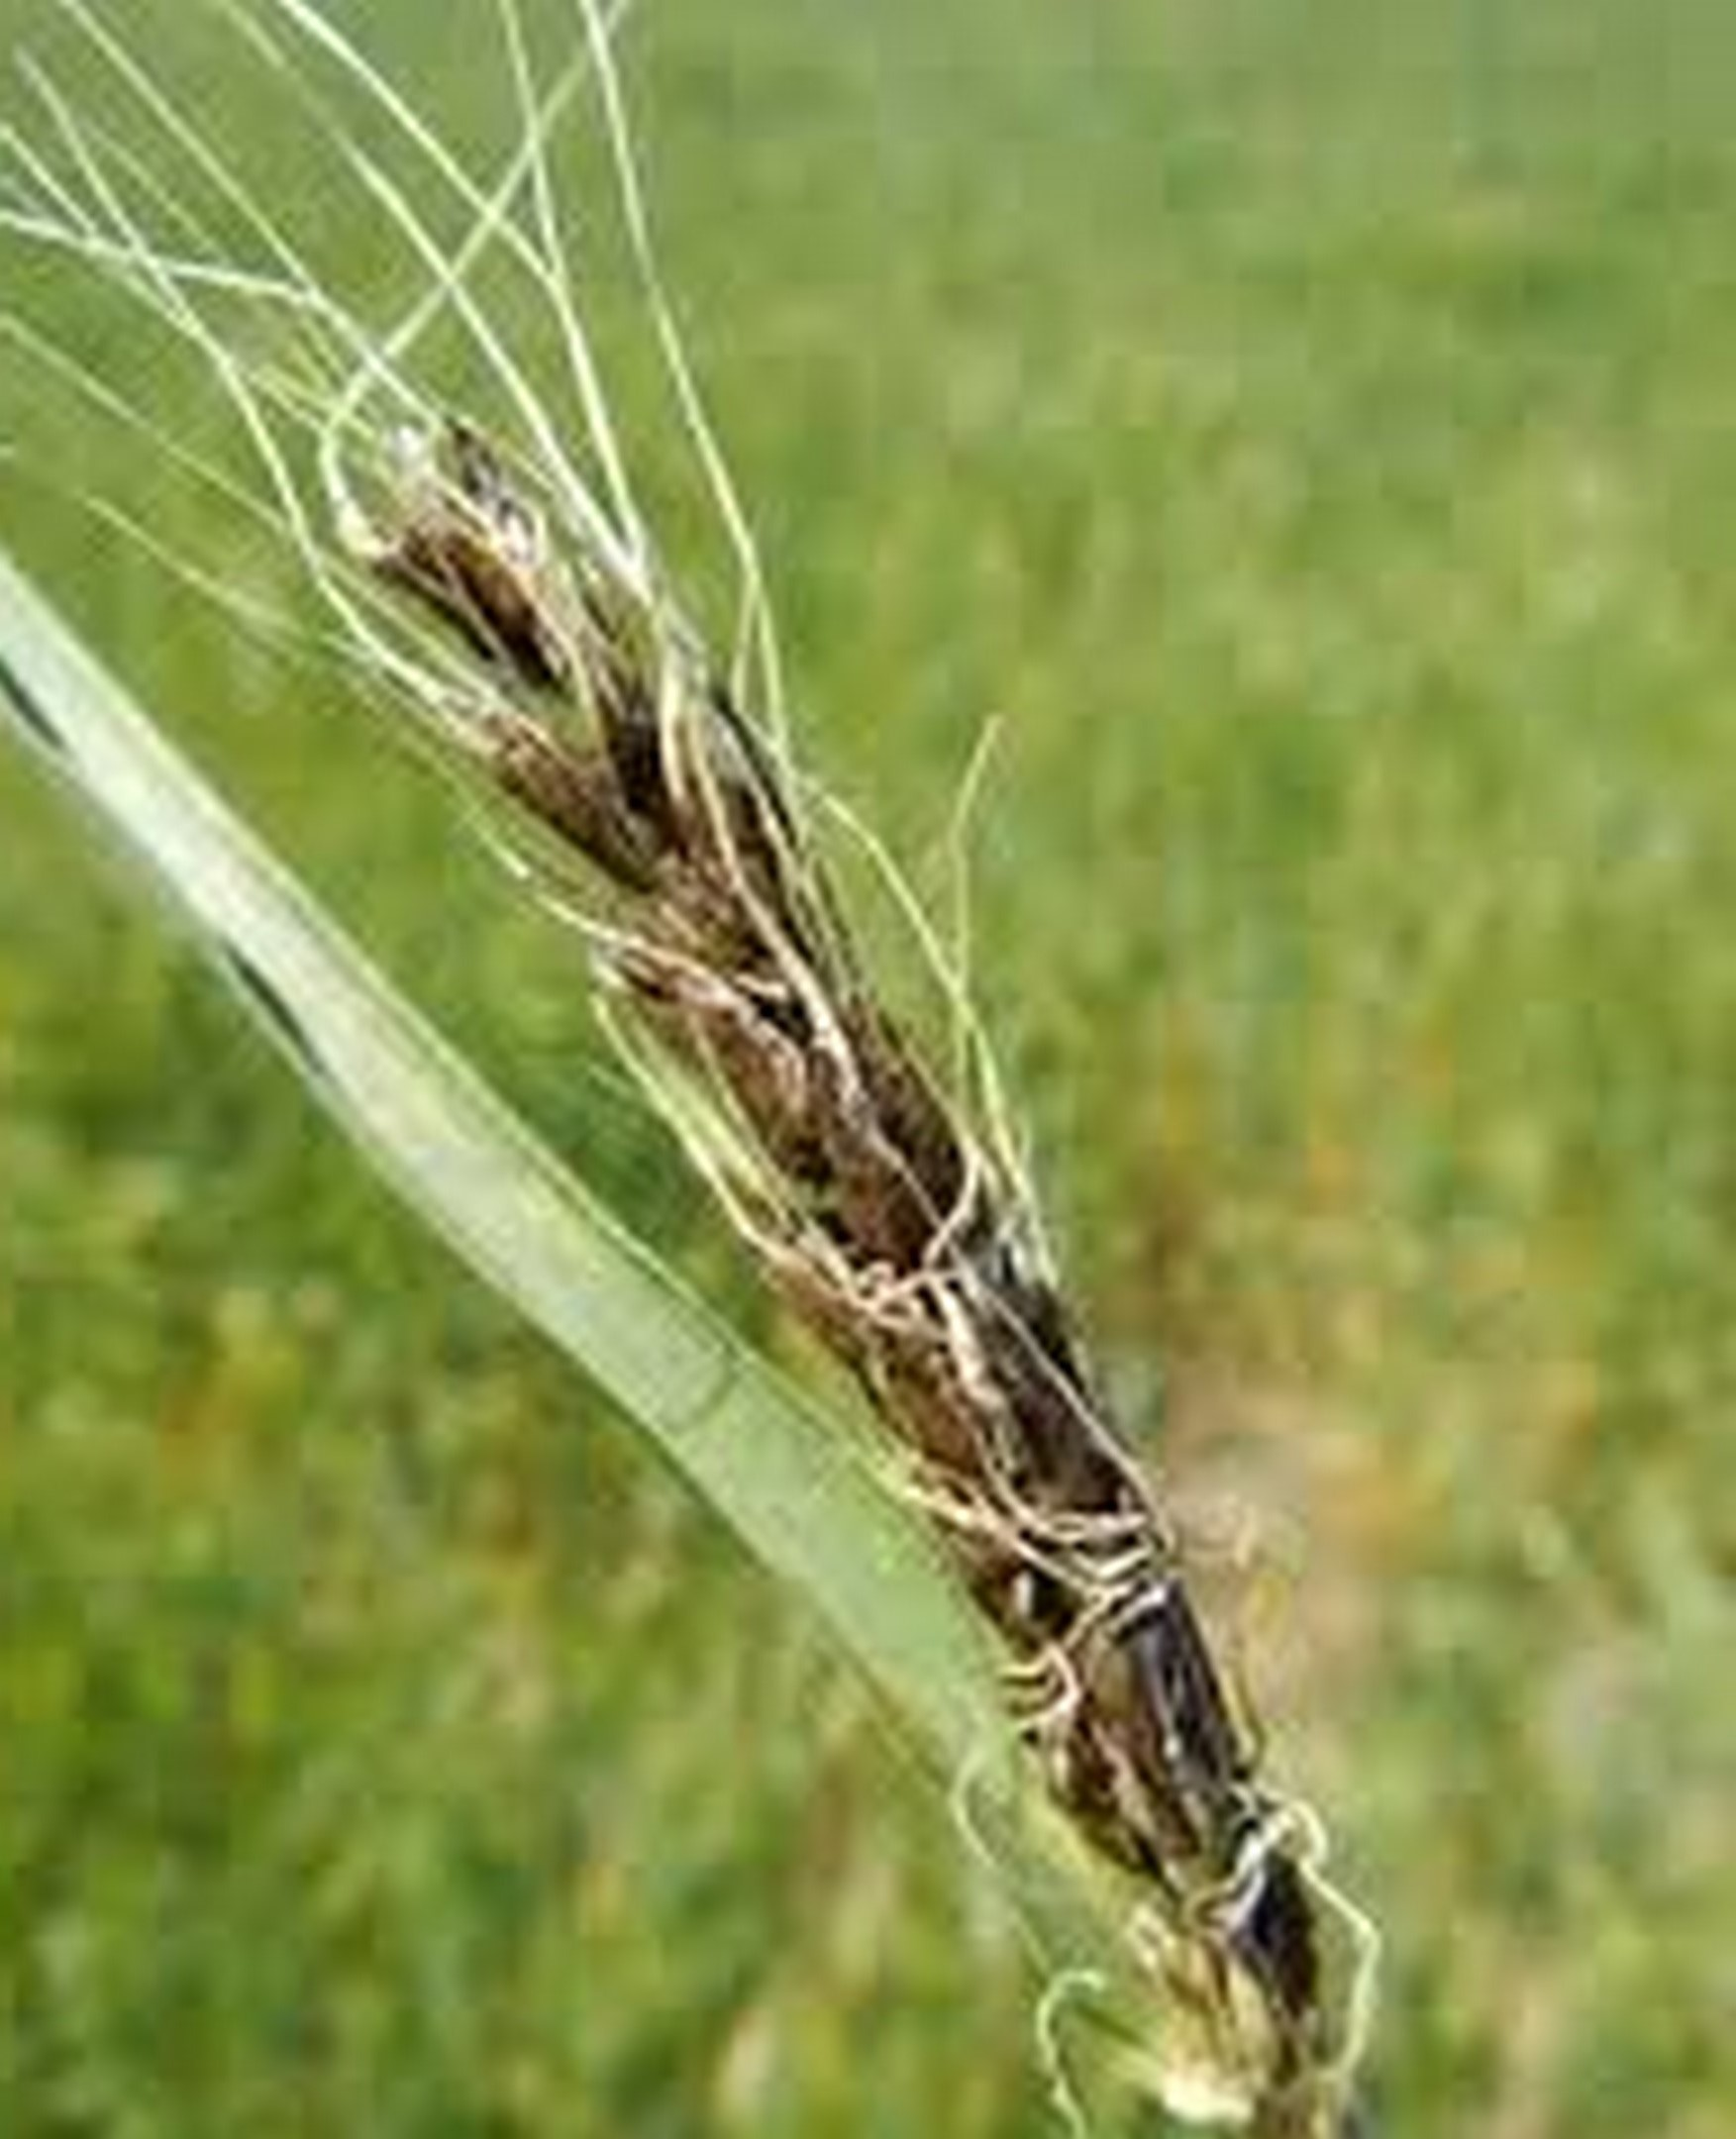Wheat Loose Smut: (344, 503, 1346, 1889)
